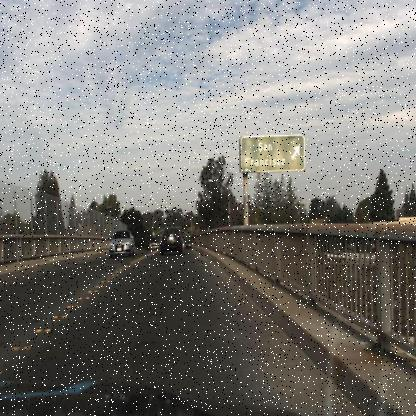car: (158, 223, 184, 257), (108, 227, 134, 260)
